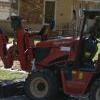Tractor: (28, 30, 100, 100)
